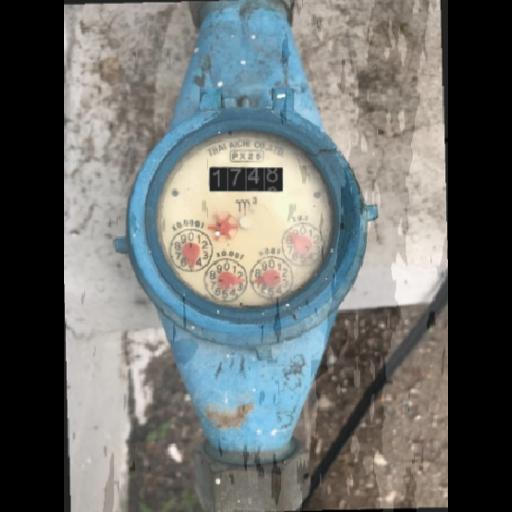1: (210, 167, 228, 191)
4: (247, 168, 263, 191)
7: (229, 167, 246, 191)
8: (265, 168, 284, 191)
border_water_meter_number: (209, 166, 284, 192)
